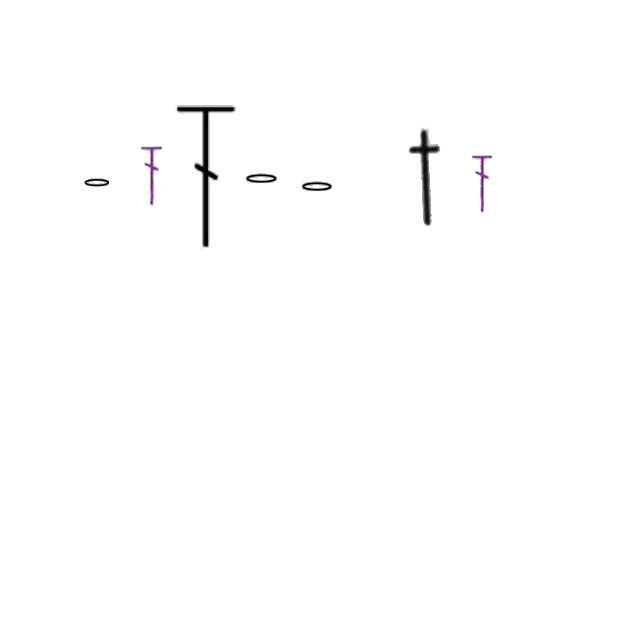chain: (174, 100, 240, 254), (142, 144, 162, 206), (472, 152, 492, 214)
double: (398, 128, 456, 228)
treble: (244, 172, 280, 186), (299, 180, 335, 194), (82, 177, 112, 189)
